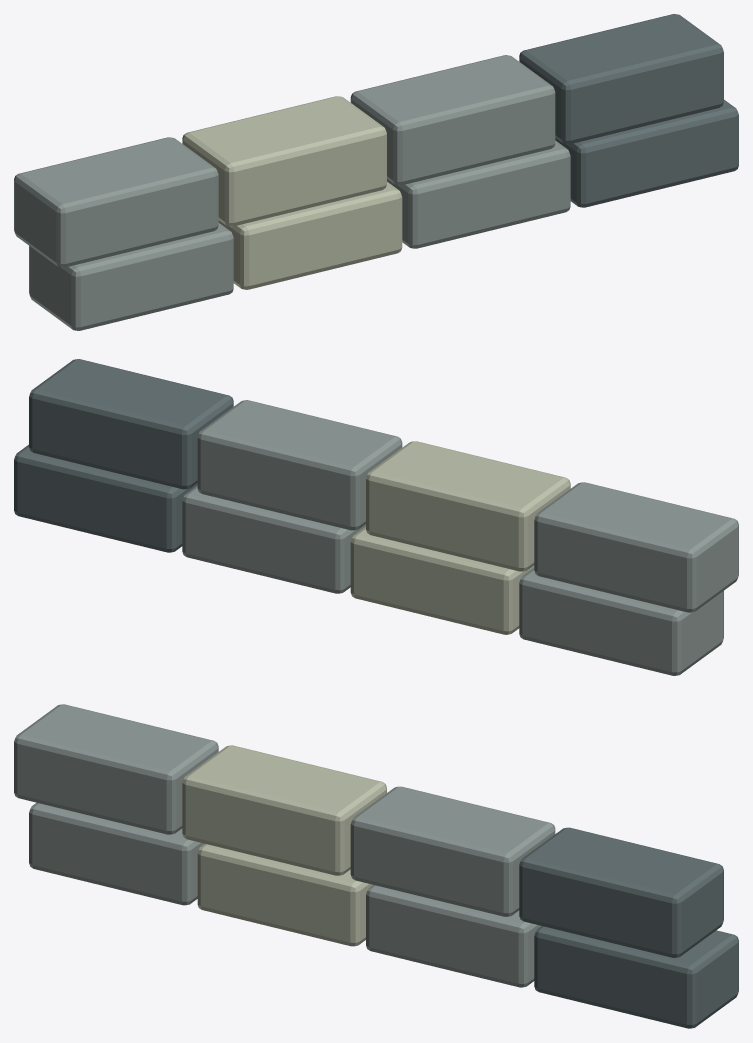
The model's file is stone_skirt_2m__finish.glb.
The picture shows the model from 3 angles, top to bottom: view 1: azimuth 30°, elevation 25°; view 2: azimuth 150°, elevation 25°; view 3: azimuth 330°, elevation 25°; orthographic projection.
Visible parts, largest first — view 1: stone_skirt_2m__finish__mesh_00; view 2: stone_skirt_2m__finish__mesh_00; view 3: stone_skirt_2m__finish__mesh_00.
Boxes of the visible parts, x1=… form: stone_skirt_2m__finish__mesh_00: x1=14, y1=14, x2=738, y2=330; stone_skirt_2m__finish__mesh_00: x1=14, y1=359, x2=738, y2=675; stone_skirt_2m__finish__mesh_00: x1=14, y1=704, x2=738, y2=1028.
Size of the model in its own units: 2.02 by 0.37 by 0.25.
